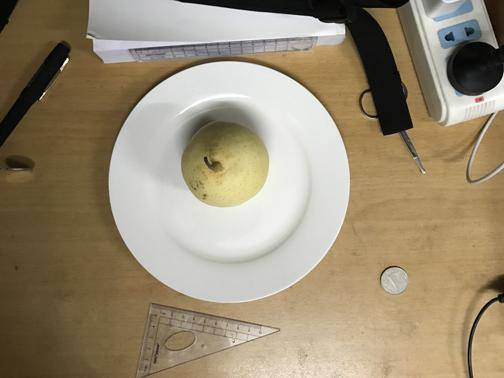coin: (380, 264, 408, 295)
pear: (179, 120, 268, 207)
